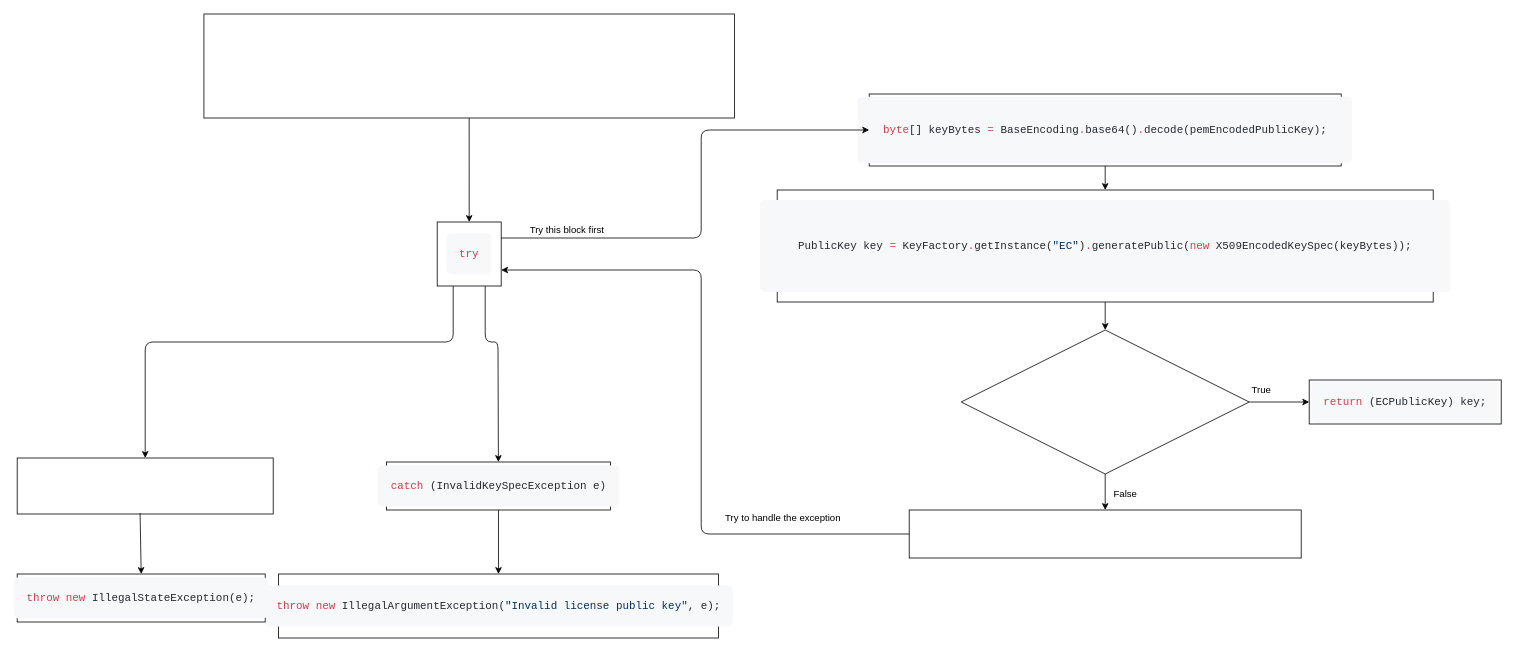
Image size: 1515x652. Some labels were removed from this diagram. Each missing label, with the box of its shape:
catch ( NoSuchAlgorithmException e): (16, 457, 273, 514)
if (key instanceof ECPublicKey ): (960, 329, 1249, 474)
private static ECPublicKey decodePublicKey( String pemEncodedPublicKey) {: (203, 13, 734, 118)
throw new IllegalStateException ( " Key not an EC public key. " );: (908, 509, 1301, 558)
